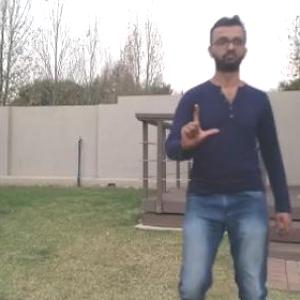land_hand: (175, 98, 226, 156)
